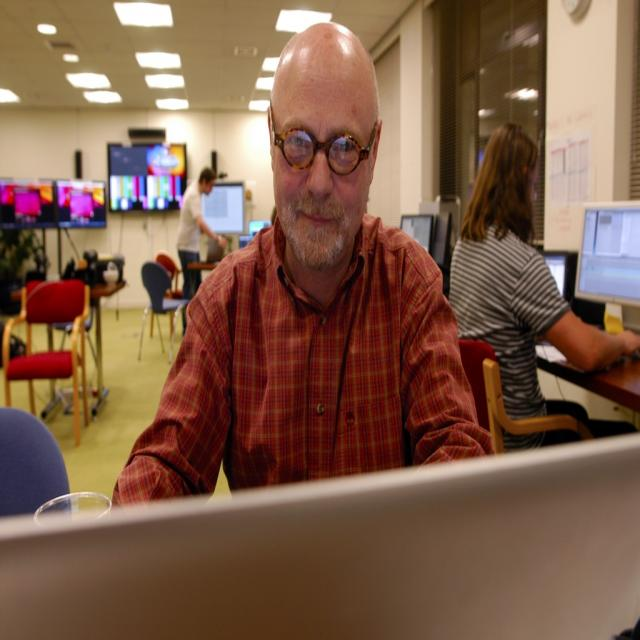chair: (1, 278, 91, 448), (481, 359, 590, 454), (1, 406, 71, 517), (137, 261, 186, 362), (458, 340, 496, 428)
desk: (535, 341, 640, 410)
person: (113, 21, 490, 508), (449, 122, 639, 433), (176, 166, 226, 299)
tv: (573, 203, 640, 313), (55, 180, 106, 228)
